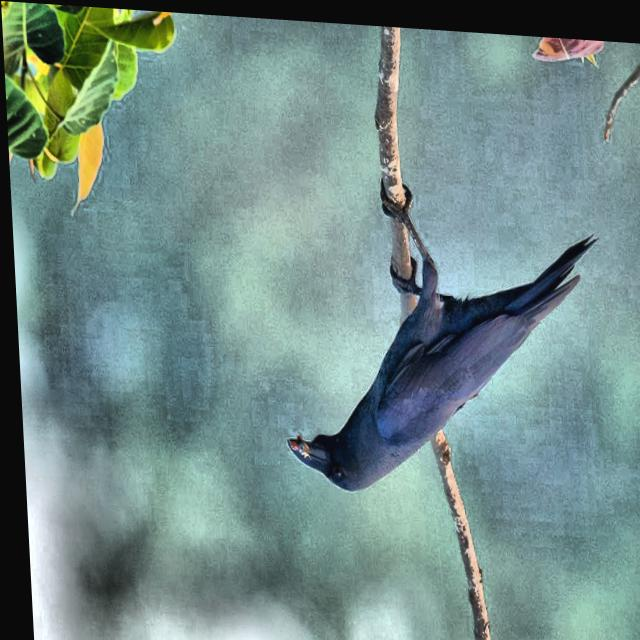crow: (252, 124, 609, 517)
